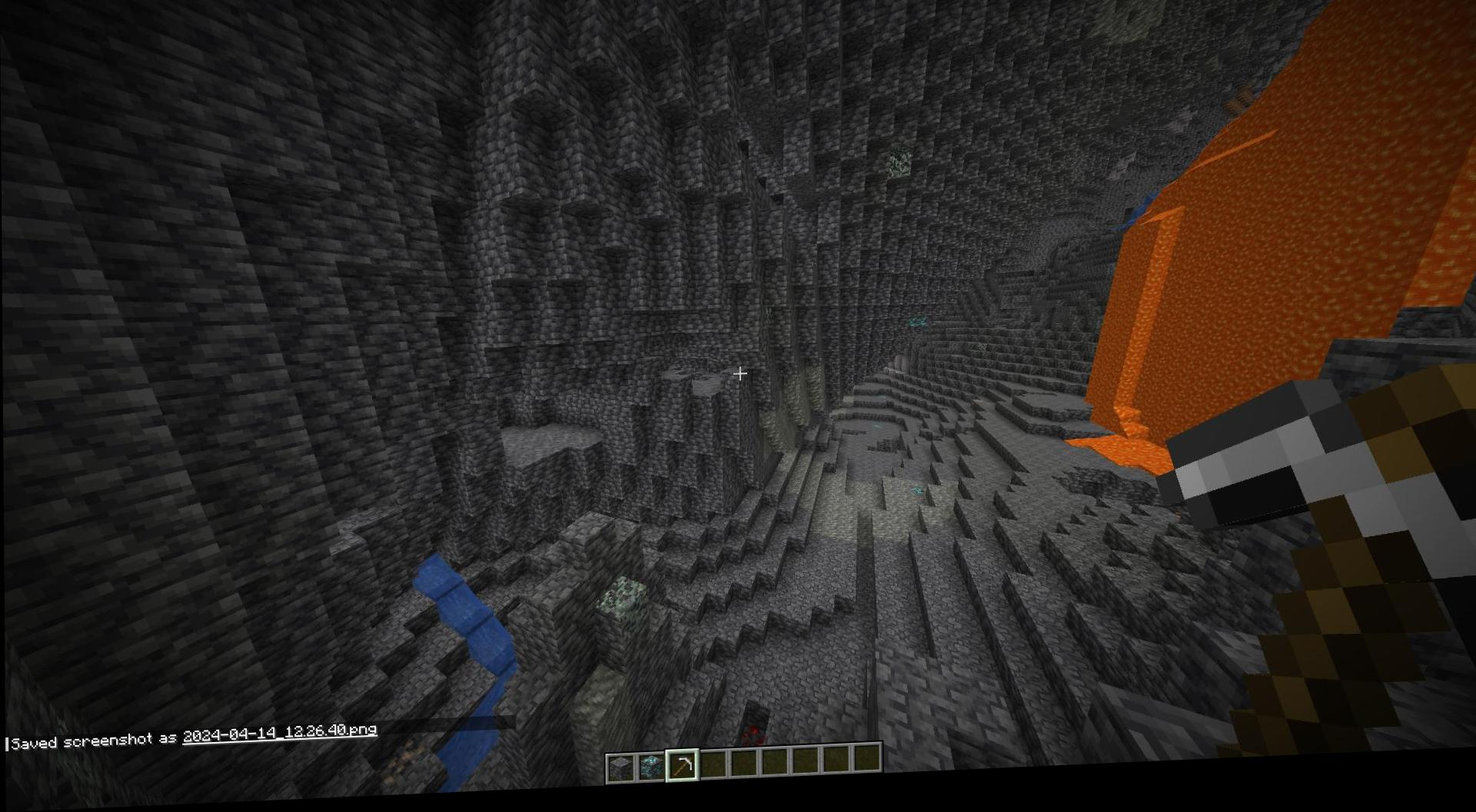diamond ore: (906, 321, 929, 337), (908, 492, 928, 505), (871, 430, 881, 439)
redstone ore: (737, 731, 765, 755)
